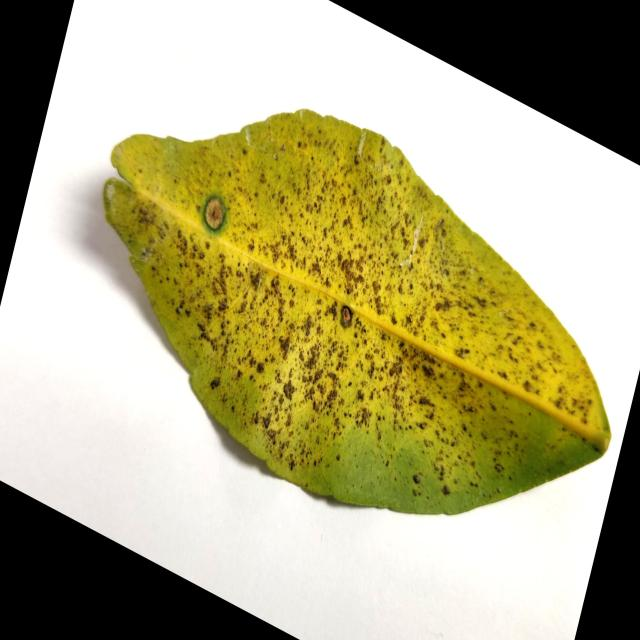melanose: (104, 111, 610, 514)
